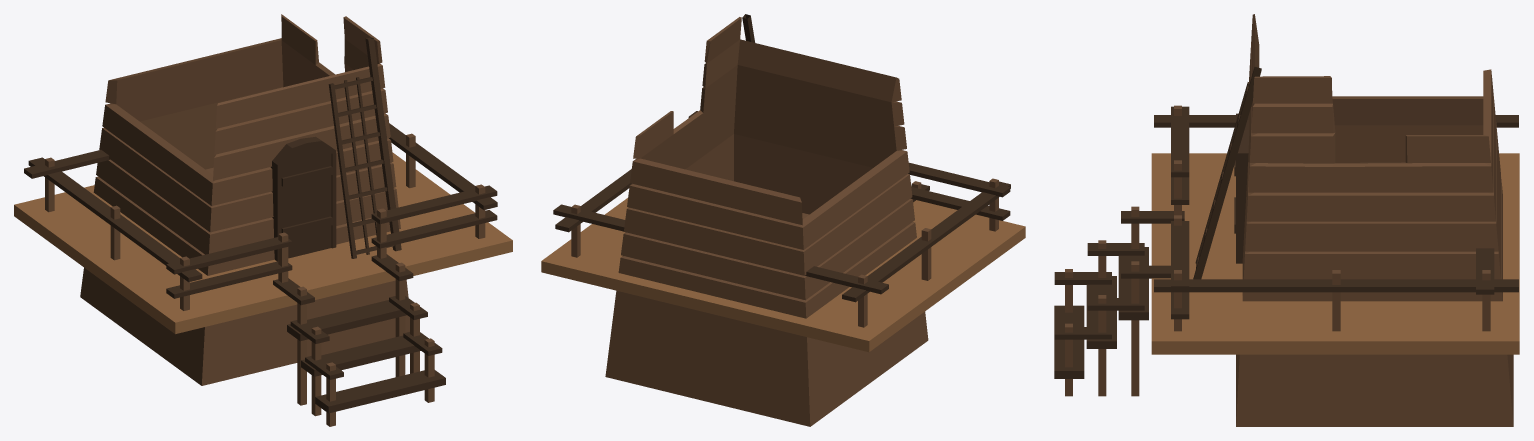
File: windmill_2_build_mat.fbx
3 views of the same model, side by side, from view 1: azimuth 30°, elevation 25°; view 2: azimuth 150°, elevation 25°; view 3: azimuth 270°, elevation 25° (orthographic). The views are drawn at different scales.
Parts seen in each view (by area): view 1: windmill_2_build_mat; view 2: windmill_2_build_mat; view 3: windmill_2_build_mat.
Part boxes in pixels (x1,y1,x2,y2): windmill_2_build_mat: [14, 14, 512, 426]; windmill_2_build_mat: [541, 14, 1025, 426]; windmill_2_build_mat: [1054, 14, 1519, 426].
Bounding box in the file's own units: 407 × 342 × 424.
